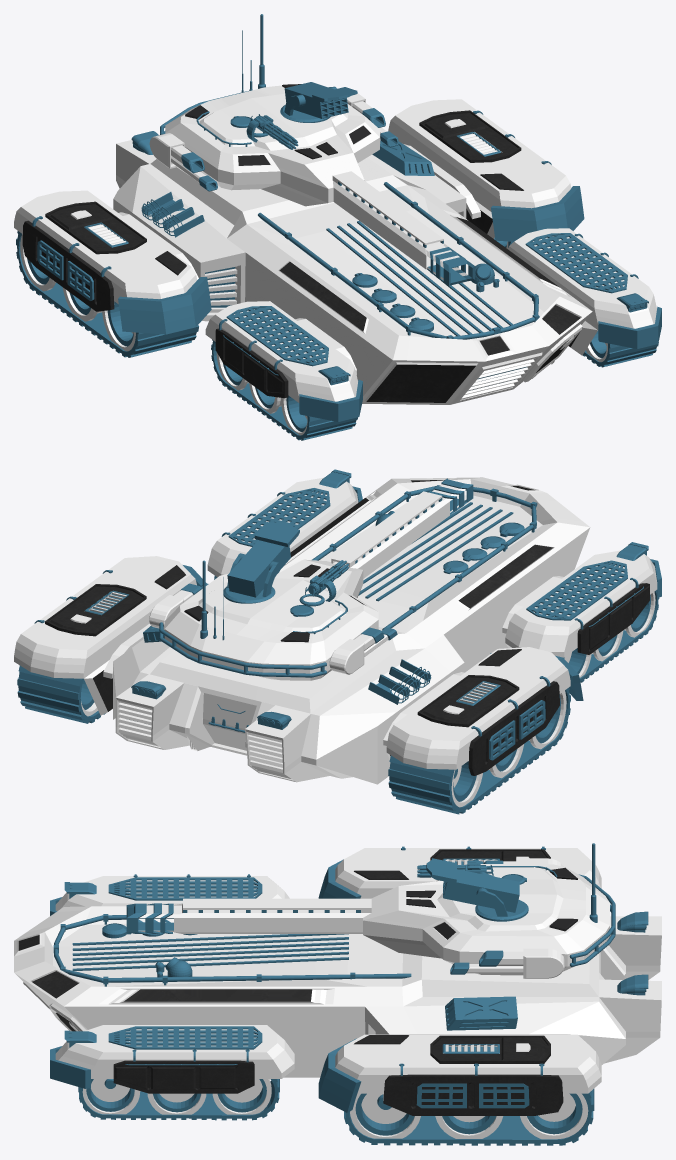
File: NaveTanque.fbx
3 views of the same model, one above another, from view 1: azimuth 30°, elevation 25°; view 2: azimuth 150°, elevation 25°; view 3: azimuth 270°, elevation 25° (orthographic). The views are drawn at different scales.
Parts seen in each view (by area): view 1: polySurface299; view 2: polySurface299; view 3: polySurface299.
Part boxes in pixels (x1,y1,x2,y2): polySurface299: [14, 14, 661, 440]; polySurface299: [14, 469, 661, 814]; polySurface299: [14, 843, 661, 1145].
Size of the model in its own units: 1386 by 587 by 1648.
